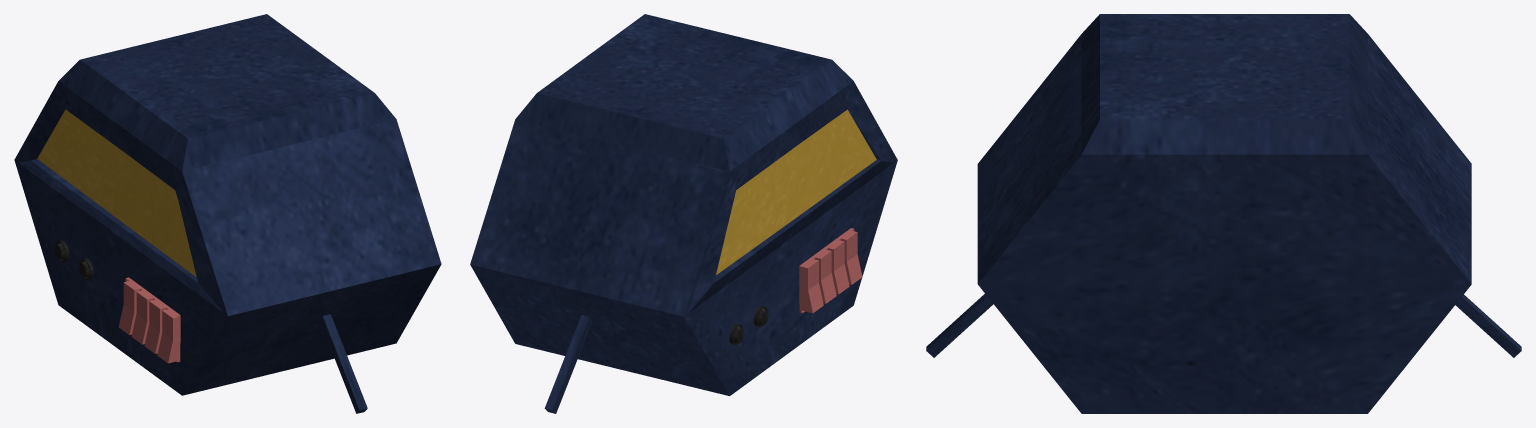
File: table_radio.fbx
3 views of the same model, side by side, from view 1: azimuth 30°, elevation 25°; view 2: azimuth 150°, elevation 25°; view 3: azimuth 270°, elevation 25° (orthographic). The views are drawn at different scales.
Parts seen in each view (by area): view 1: radio_body, Radio_2_screen, Switches, Leg_Right, Cube.102, Switch_Panel; view 2: radio_body, Radio_2_screen, Switches, Leg_Left, Cube.102, Switch_Panel; view 3: radio_body, Leg_Right, Leg_Left.
Part boxes in pixels (x1,y1,x2,y2): radio_body: [14, 14, 441, 395]; Radio_2_screen: [37, 109, 196, 276]; Switches: [131, 290, 177, 363]; Leg_Right: [320, 314, 367, 413]; Cube.102: [118, 281, 140, 334]; Switch_Panel: [125, 277, 180, 362]; radio_body: [470, 14, 897, 396]; Radio_2_screen: [716, 109, 876, 274]; Switches: [815, 231, 862, 303]; Leg_Left: [544, 315, 592, 413]; Cube.102: [802, 259, 823, 313]; Switch_Panel: [799, 228, 854, 313]; radio_body: [977, 14, 1471, 413]; Leg_Right: [926, 294, 993, 357]; Leg_Left: [1455, 294, 1521, 357].
Size of the model in its own units: 2.11 by 2.21 by 4.16.
